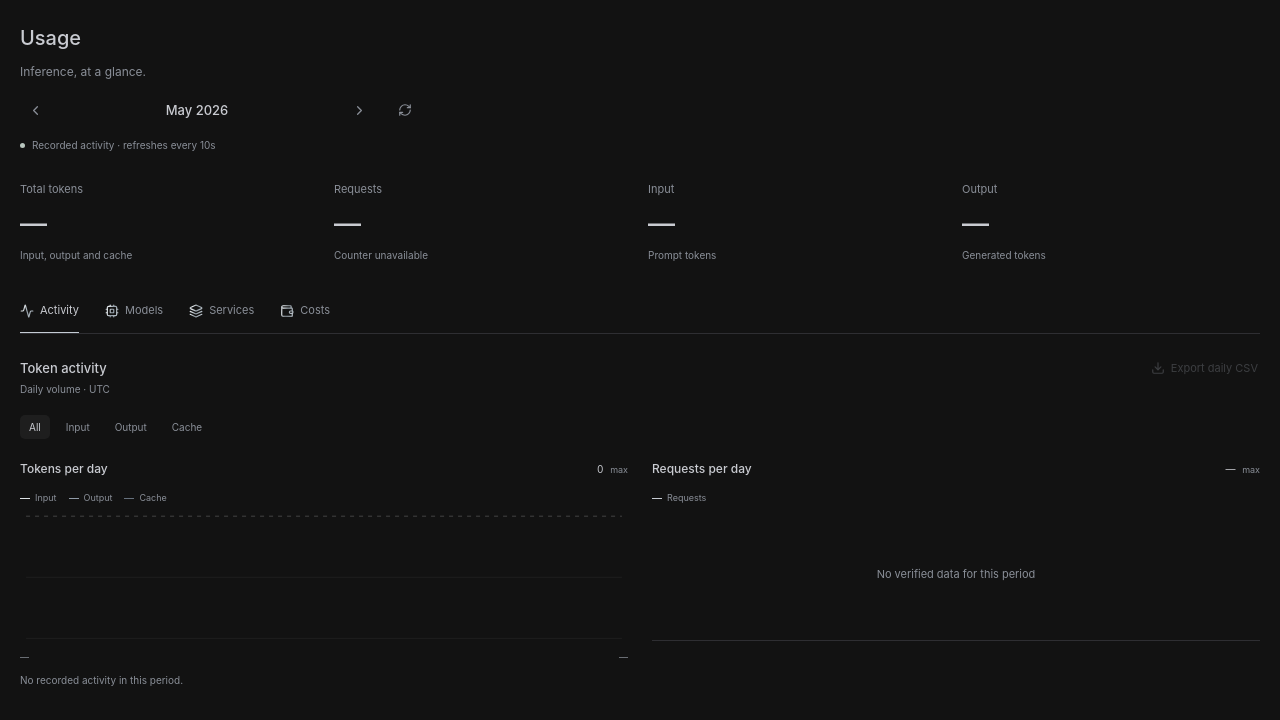
Test: releases resources and reports failure if browser download activation throws
Click the button "Models".
click(134, 312)  # box [105,292,163,333]
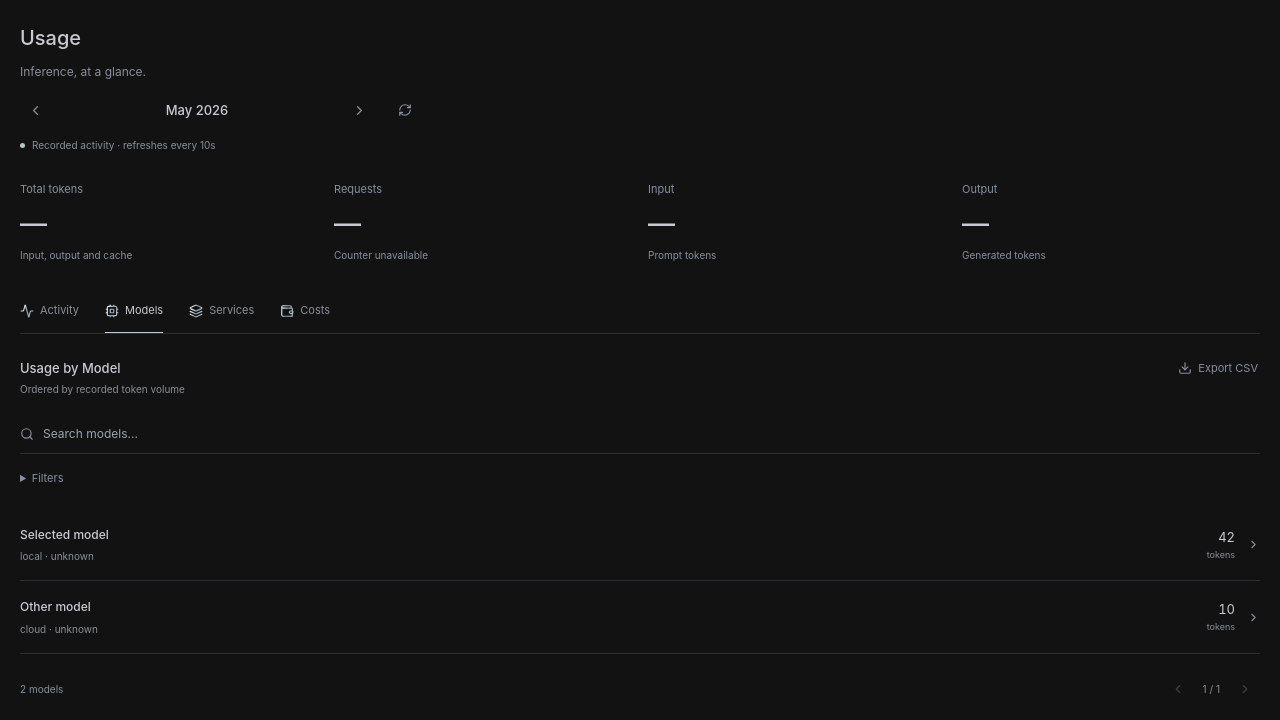
Type "Selected" into the field labelled "Search models".
click(652, 434); type("Selected")  # box [43,424,1260,444]
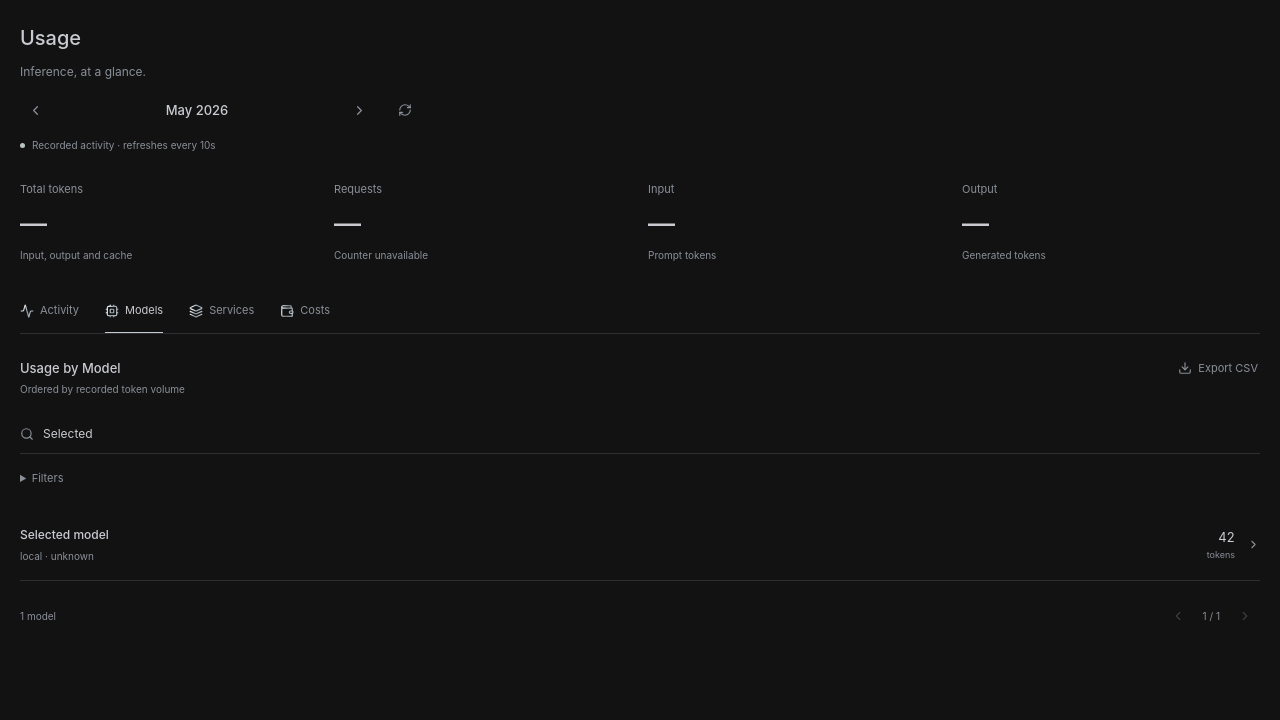
Click the button "Export CSV".
click(1218, 368)  # box [1176,358,1260,379]
Wait 1000 ms
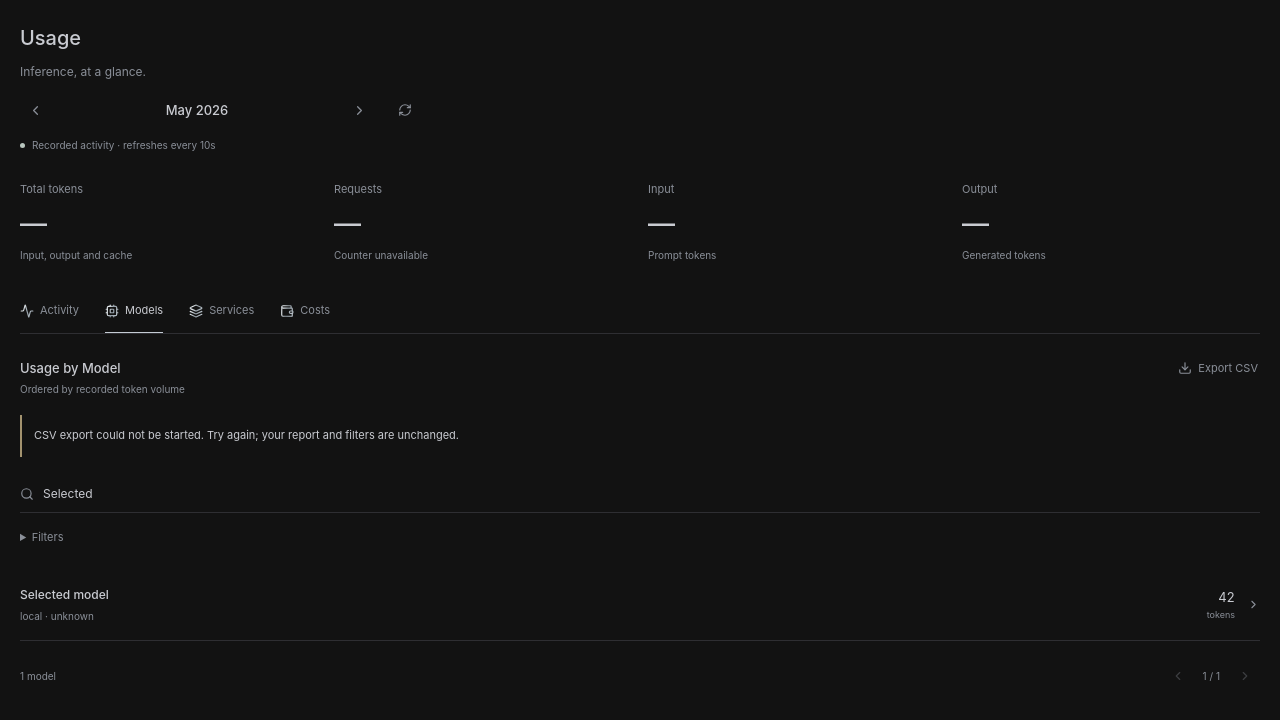
Result: the message shows "CSV export could not be started" at [34,428,459,442]
